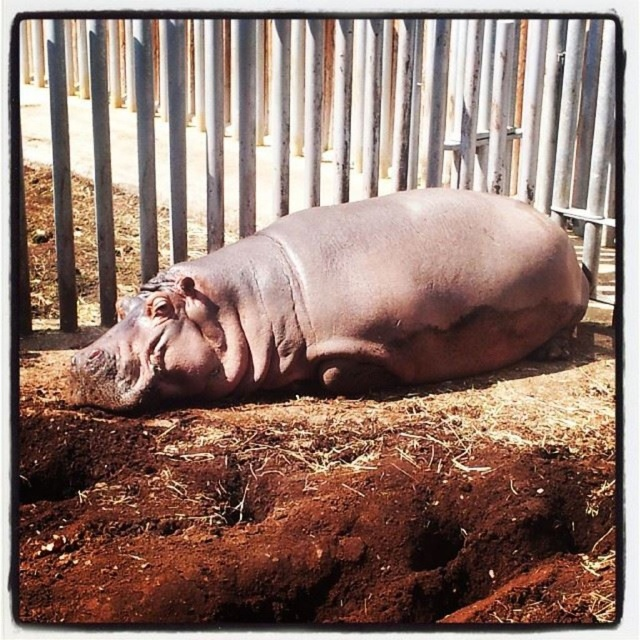Hippopotamus: (61, 182, 594, 410)
